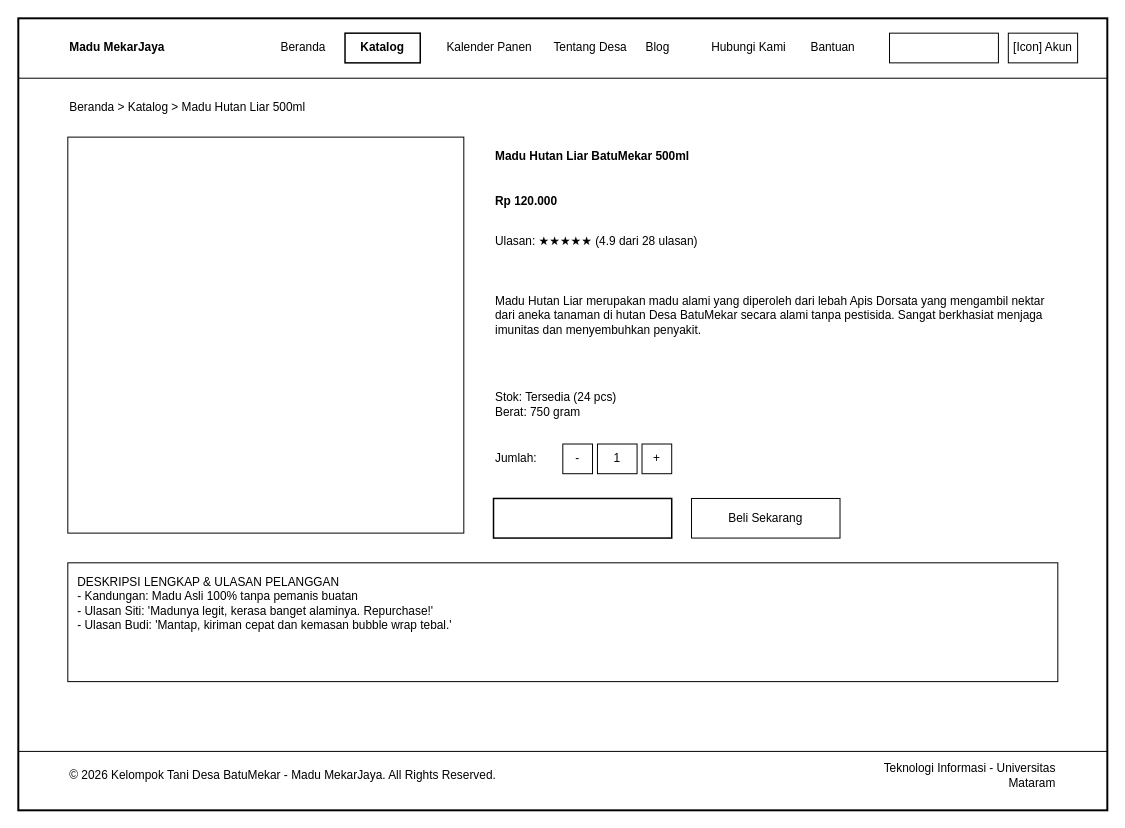
Some shapes in this 1125 by 828 pixel diagram are drawn without their labels. Each missing label, with the box of its shape:
[ Foto Produk Madu Hutan Liar 500ml ]: (67, 136, 464, 533)
[Icon] Keranjang (2): (889, 32, 998, 63)
Tambah ke Keranjang: (492, 497, 672, 538)
